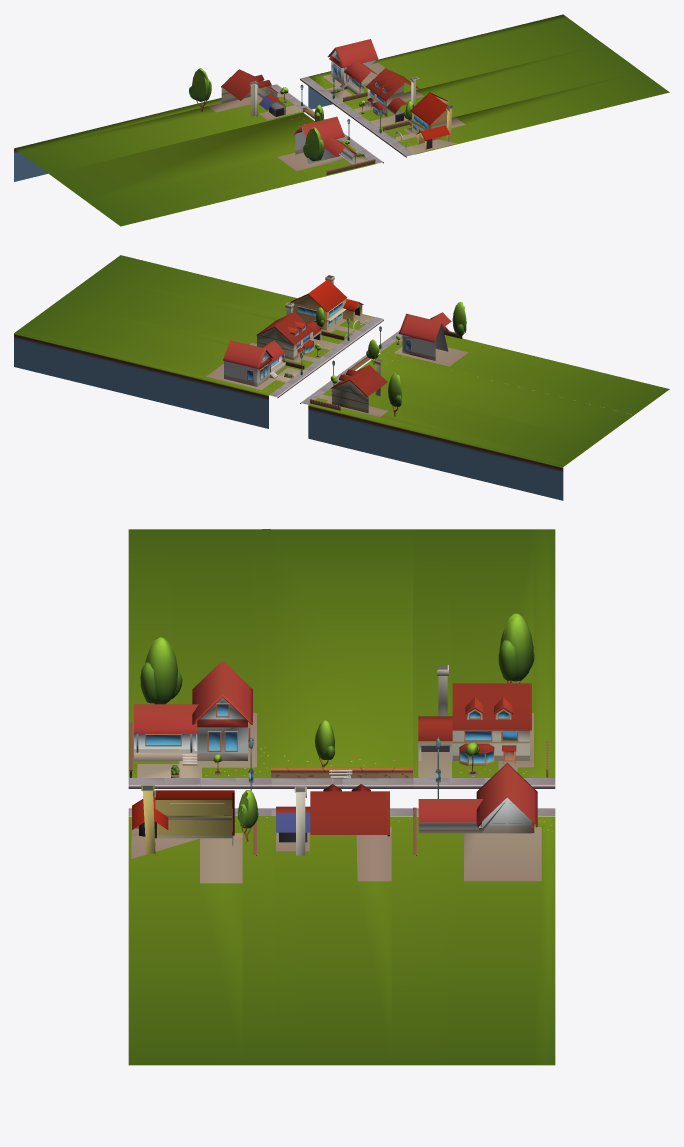
File: Tom1_SuburbanSet01_30.fbx
3 views of the same model, one above another, from view 1: azimuth 30°, elevation 25°; view 2: azimuth 150°, elevation 25°; view 3: azimuth 270°, elevation 25° (orthographic). The views are drawn at different scales.
Visible parts, largest first — view 1: tom1_SuburbanSet02_30; view 2: tom1_SuburbanSet02_30; view 3: tom1_SuburbanSet02_30.
Boxes of the visible parts, <box> form: tom1_SuburbanSet02_30: <box>14,14,669,226</box>; tom1_SuburbanSet02_30: <box>14,255,669,500</box>; tom1_SuburbanSet02_30: <box>128,529,555,1065</box>.
Bounding box in the file's own units: 8921 × 1210 × 3000.
